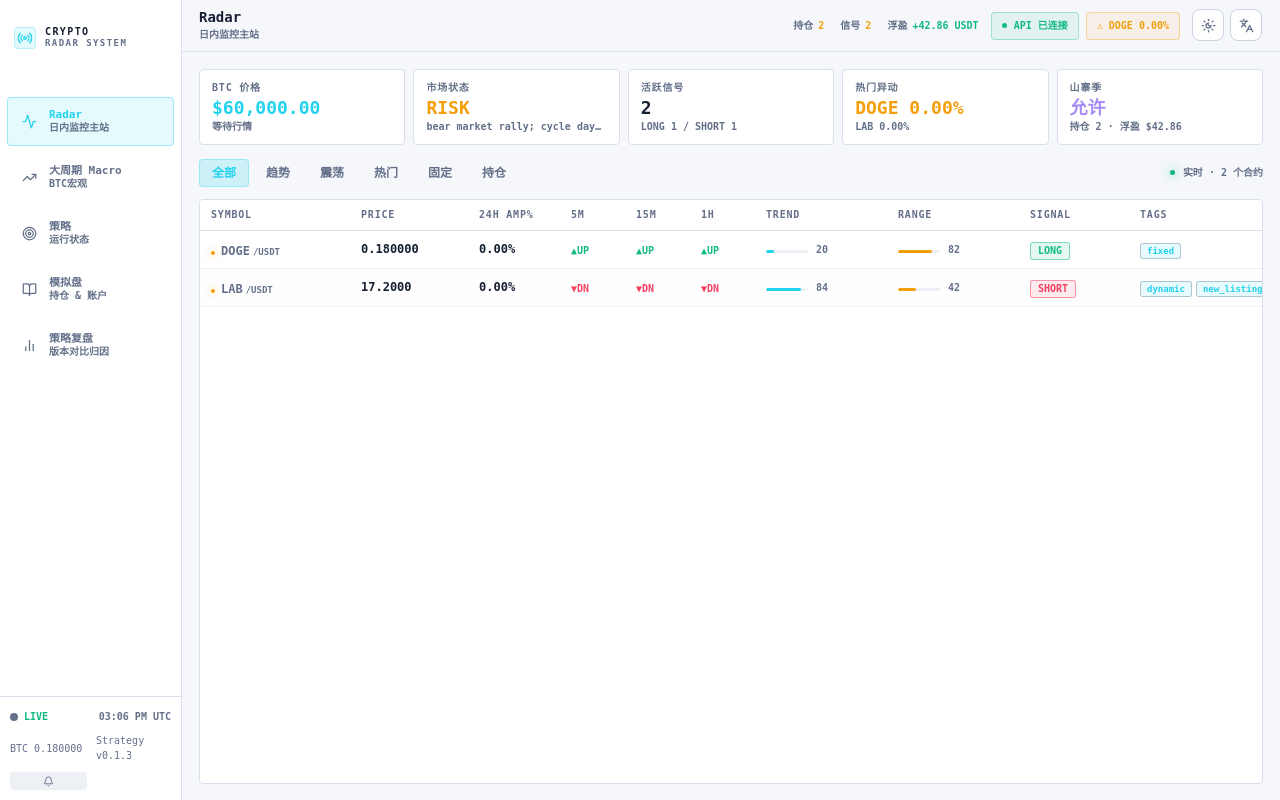
Test: App › uses Figma task rail pages and keeps radar filters inside Monitor
expect the element with test id "terminal-live-status" shows "LIVE": met, box [24, 711, 48, 722]
expect the element with test id "terminal-quick-stats" shows "持仓 2": met, box [793, 18, 979, 33]
Click the button with aria-label "交易".
click(90, 290)  # box [7, 265, 174, 314]
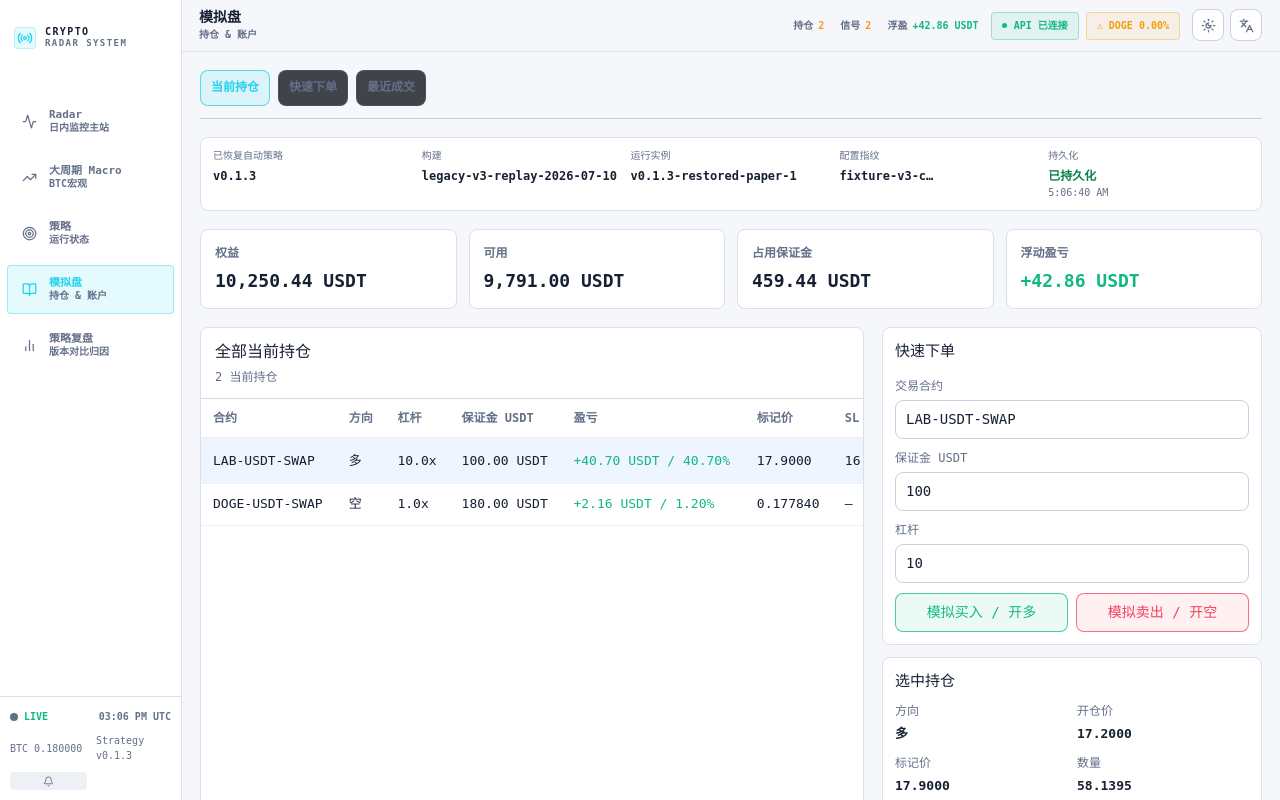
expect the heading "模拟盘" is shown: met, box [199, 9, 241, 25]
expect the button "趋势" is gone: met
expect the text "当前持仓" is shown: met, box [200, 70, 270, 106]
